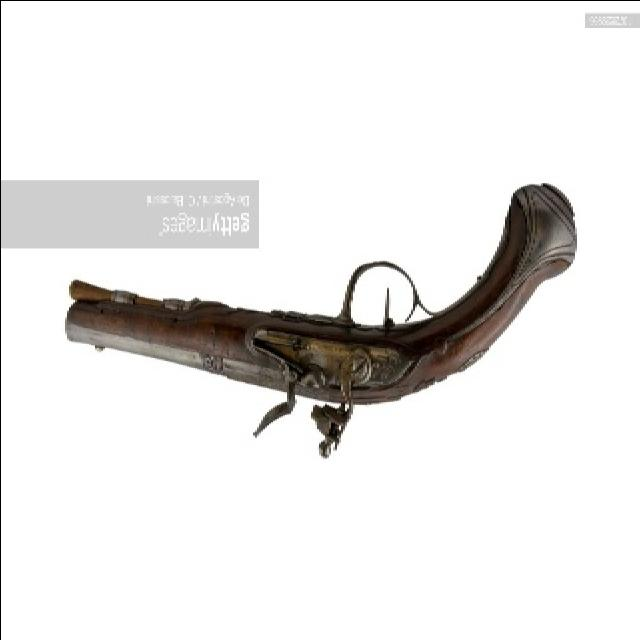handgun: (65, 186, 579, 462)
